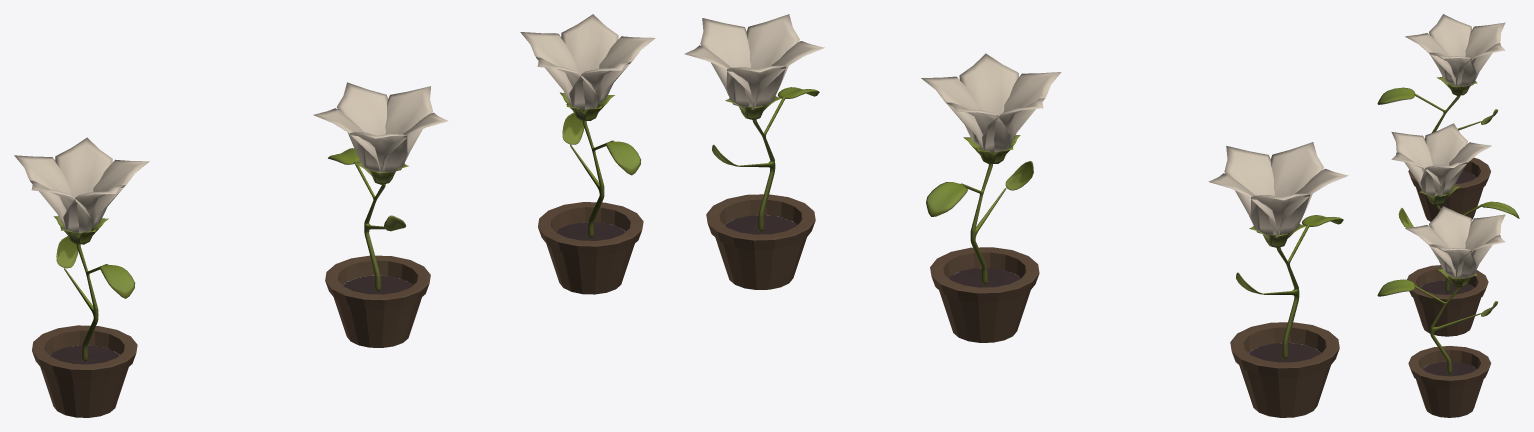
File: Planta.obj
3 views of the same model, side by side, from view 1: azimuth 30°, elevation 25°; view 2: azimuth 150°, elevation 25°; view 3: azimuth 270°, elevation 25° (orthographic). The views are drawn at different scales.
Parts seen in each view (by area): view 1: planta_Cubo_009; view 2: planta_Cubo_009; view 3: planta_Cubo_009.
Part boxes in pixels (left/top/right/bottom): planta_Cubo_009: left=14, top=14, right=655, bottom=417; planta_Cubo_009: left=684, top=14, right=1348, bottom=417; planta_Cubo_009: left=1377, top=14, right=1519, bottom=417.
Size of the model in its own units: 2.89 by 1.02 by 0.7323.
1 material, 1 textured.
